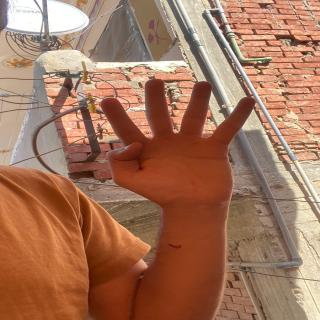SHEEN: (98, 74, 263, 208)
